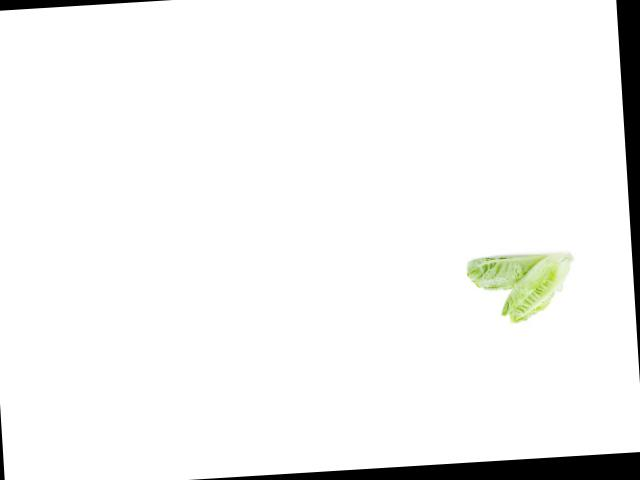lettuce: (458, 246, 552, 294)
